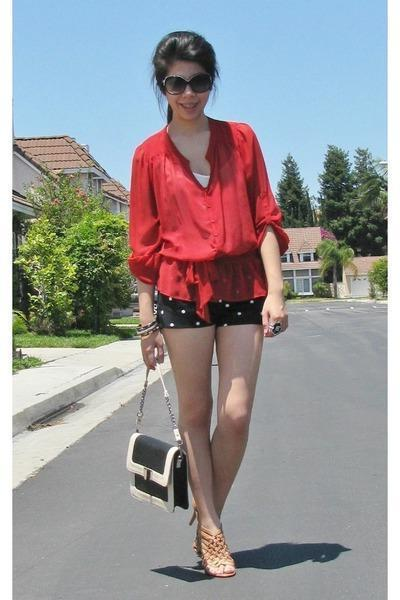long sleeve shirt: (126, 119, 290, 324)
skirt: (148, 274, 283, 332)
vest: (190, 171, 218, 193)
